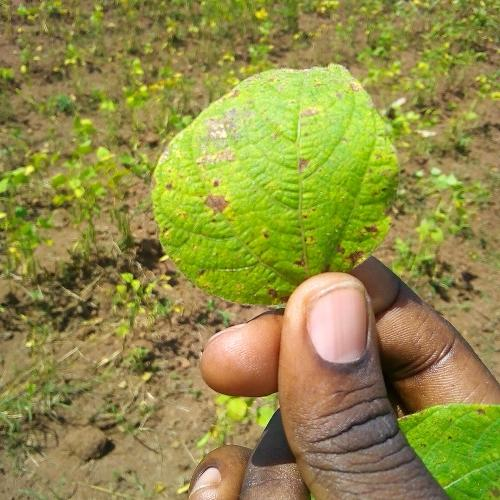hawar: (178, 90, 326, 234)
